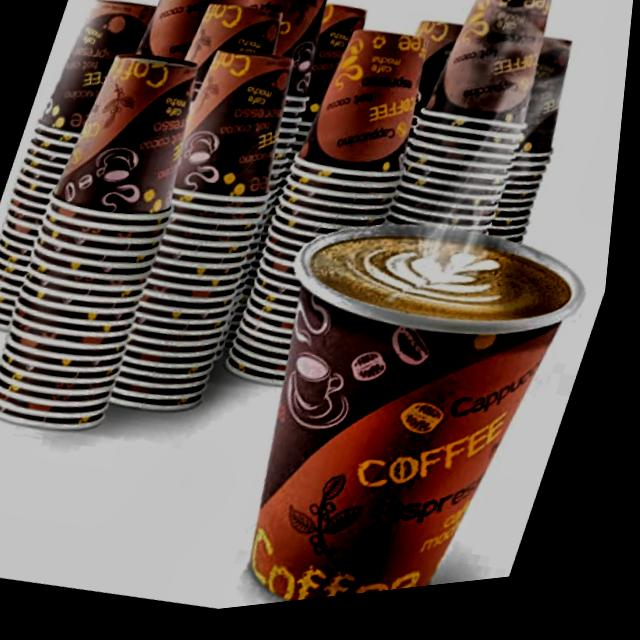Cup: (197, 184, 613, 619)
